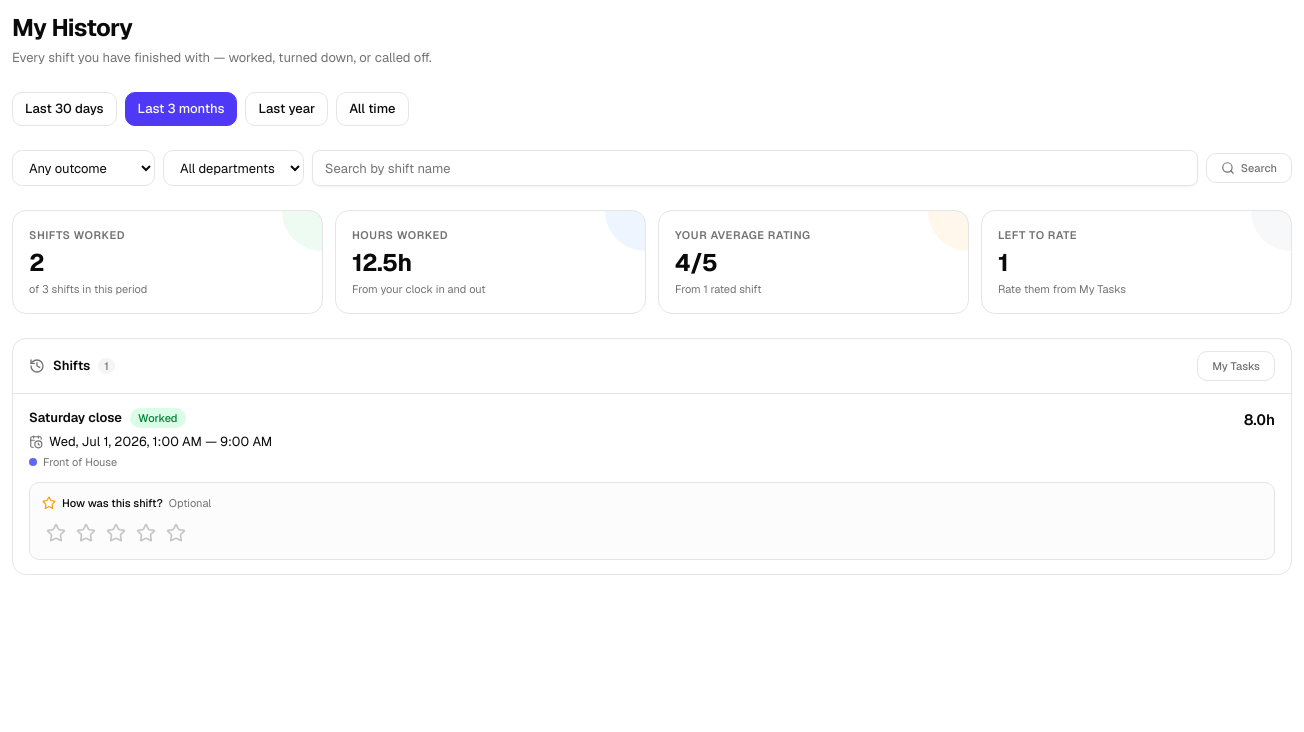
Test: narrowing the list › offers a way back once something is filtered
The image size is (1304, 732).
Expected: the heading "Saturday close" is shown, top-left (29, 408), bottom-right (122, 428)
Expected: the button "clear filters" is not shown
Step 1. Select "Declined" in the dropdown named "Outcome" → (84, 168), box top-left (12, 150), bottom-right (155, 186)
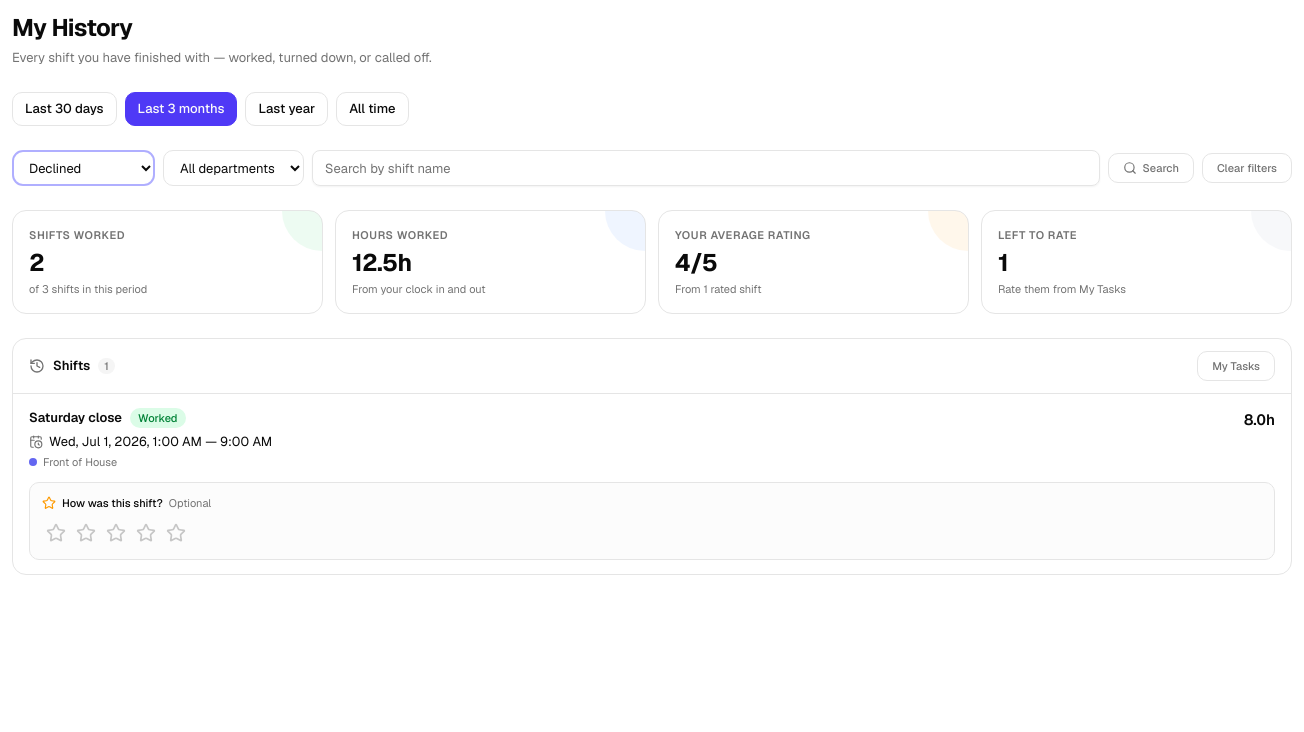
Now the button "Clear filters" is shown, box top-left (1202, 153), bottom-right (1292, 183)
